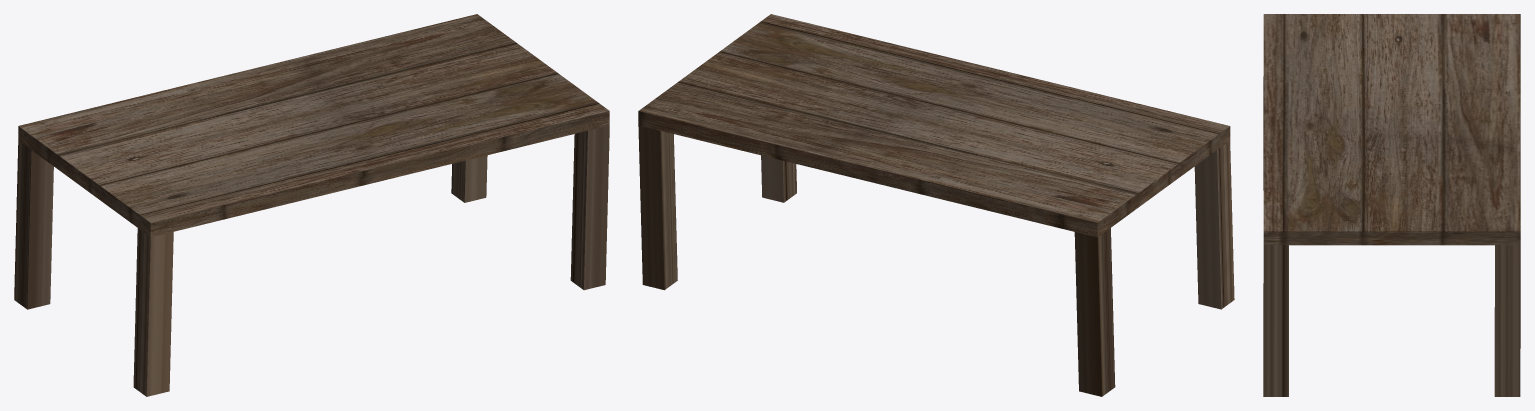
The model's file is longTable.fbx.
3 renders of one model, left to right at view 1: azimuth 30°, elevation 25°; view 2: azimuth 150°, elevation 25°; view 3: azimuth 270°, elevation 25°, orthographic. The views are drawn at different scales.
Parts seen in each view (by area): view 1: LongTable; view 2: LongTable; view 3: LongTable.
Boxes of the visible parts, box(x1,y1,x2,y2) form: LongTable: box(14, 14, 609, 396); LongTable: box(638, 14, 1234, 396); LongTable: box(1263, 14, 1520, 396).
Bounding box in the file's own units: 2018 × 720 × 1001.
1 material, 1 textured.
